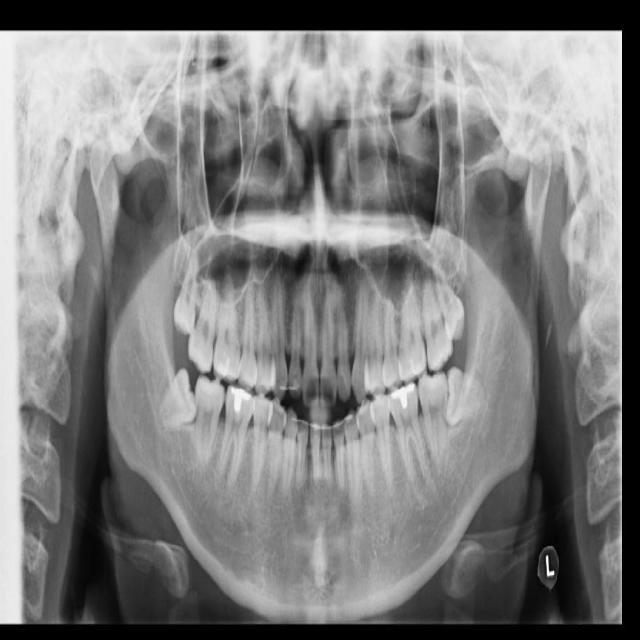3M ESPE Implant: (172, 243, 199, 336)
52: (217, 378, 265, 425), (208, 338, 245, 386), (384, 379, 423, 424)
73: (561, 556, 565, 568)
BioHorizons Implant: (416, 259, 456, 374)
BioLife Implant: (424, 242, 472, 346)
Biomet 3i Implant: (439, 365, 489, 431)
Blue Sky Bio Implant: (417, 371, 448, 478)
Caries: (184, 259, 223, 375)
Implant: (181, 371, 230, 465)
Keystone Dental Implant: (145, 365, 204, 432)
